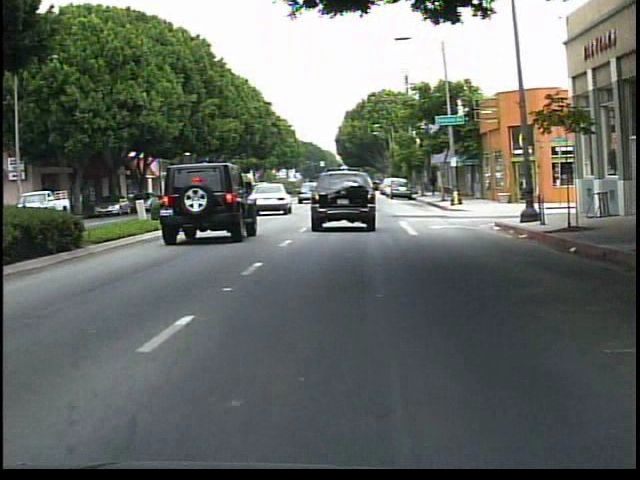person: (423, 165, 444, 201)
